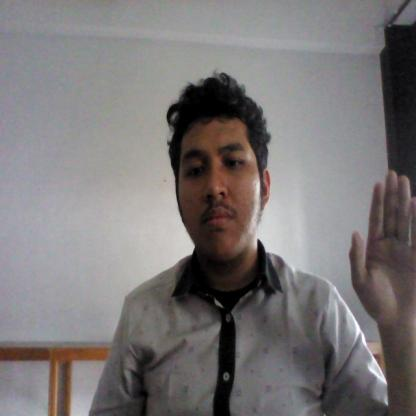Halo: (348, 155, 416, 346)
